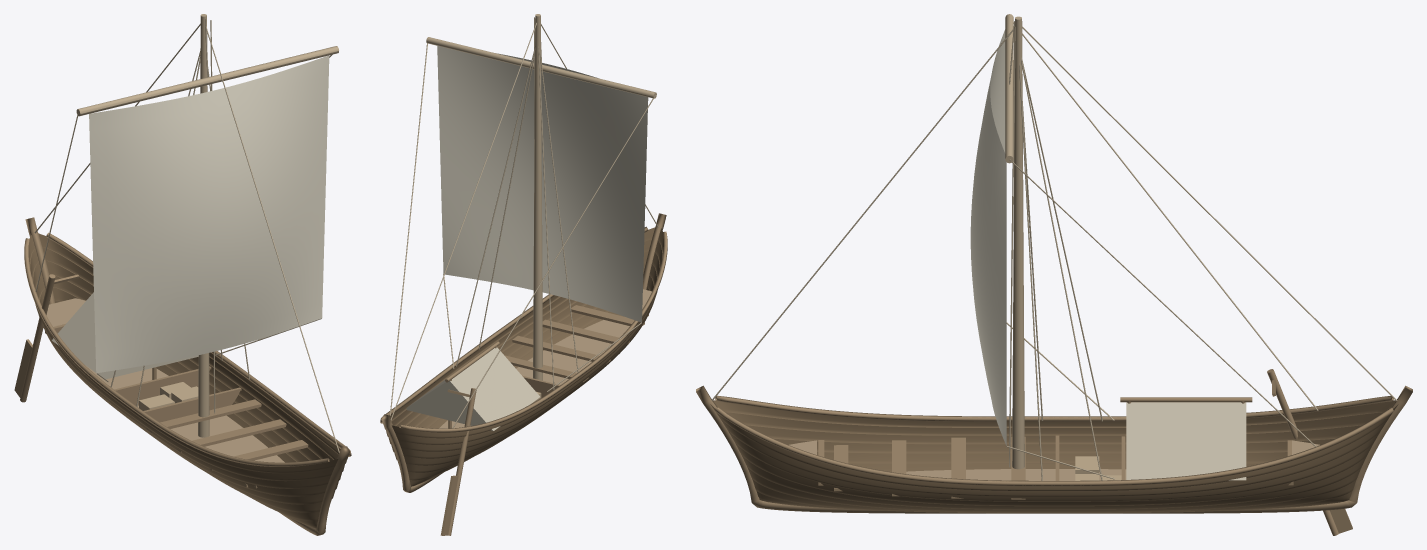
File: fishing-boat.glb
3 renders of one model, left to right at view 1: azimuth 30°, elevation 25°; view 2: azimuth 150°, elevation 25°; view 3: azimuth 270°, elevation 25°, orthographic. The views are drawn at different scales.
Parts seen in each view (by area): view 1: linen, planking, timber, boards, rope, Yard, Aft tent canopy, Mast, Steering oar (starboard), Steering oar blade; view 2: linen, planking, timber, Aft tent canopy, rope, Mast, boards, Yard, Steering oar (starboard), Steering oar blade; view 3: planking, timber, linen, Aft tent canopy, rope, Mast, boards, Yard.
Boxes of the visible parts, bbox=[...] form: linen: bbox=[89, 55, 329, 373]; planking: bbox=[28, 233, 346, 528]; timber: bbox=[24, 217, 351, 535]; boards: bbox=[46, 298, 284, 462]; rope: bbox=[34, 19, 339, 452]; Yard: bbox=[76, 46, 338, 116]; Aft tent canopy: bbox=[52, 292, 198, 379]; Mast: bbox=[198, 14, 209, 437]; Steering oar (starboard): bbox=[20, 274, 55, 402]; Steering oar blade: bbox=[14, 339, 32, 397]; linen: bbox=[437, 46, 648, 322]; planking: bbox=[384, 227, 663, 486]; timber: bbox=[380, 213, 667, 492]; Aft tent canopy: bbox=[406, 347, 539, 430]; rope: bbox=[390, 17, 658, 428]; Mast: bbox=[533, 14, 542, 380]; boards: bbox=[439, 289, 651, 428]; Yard: bbox=[426, 37, 656, 98]; Steering oar (starboard): bbox=[448, 388, 476, 535]; Steering oar blade: bbox=[440, 475, 458, 535]; planking: bbox=[710, 400, 1398, 513]; timber: bbox=[696, 385, 1412, 513]; linen: bbox=[970, 29, 1006, 445]; Aft tent canopy: bbox=[1126, 402, 1246, 480]; rope: bbox=[711, 21, 1397, 480]; Mast: bbox=[1012, 16, 1024, 469]; boards: bbox=[789, 440, 1319, 480]; Yard: bbox=[1005, 14, 1013, 163].
Size of the model in its own units: 5.62 by 9.92 by 11.96.
